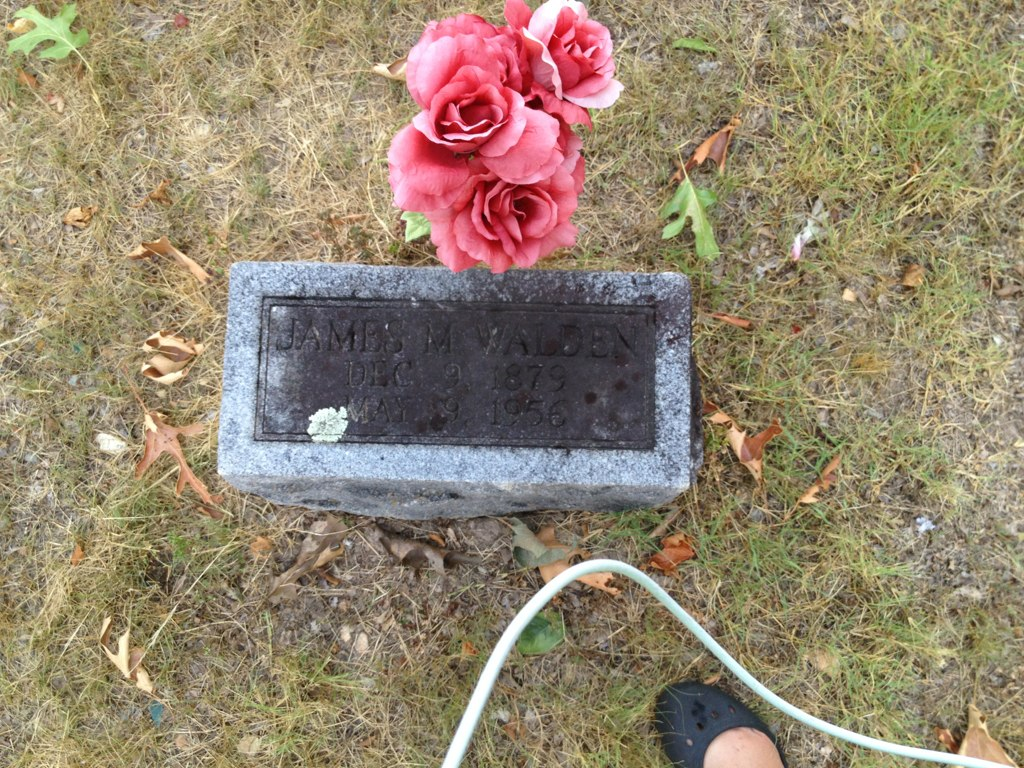flat: (203, 237, 728, 529)
